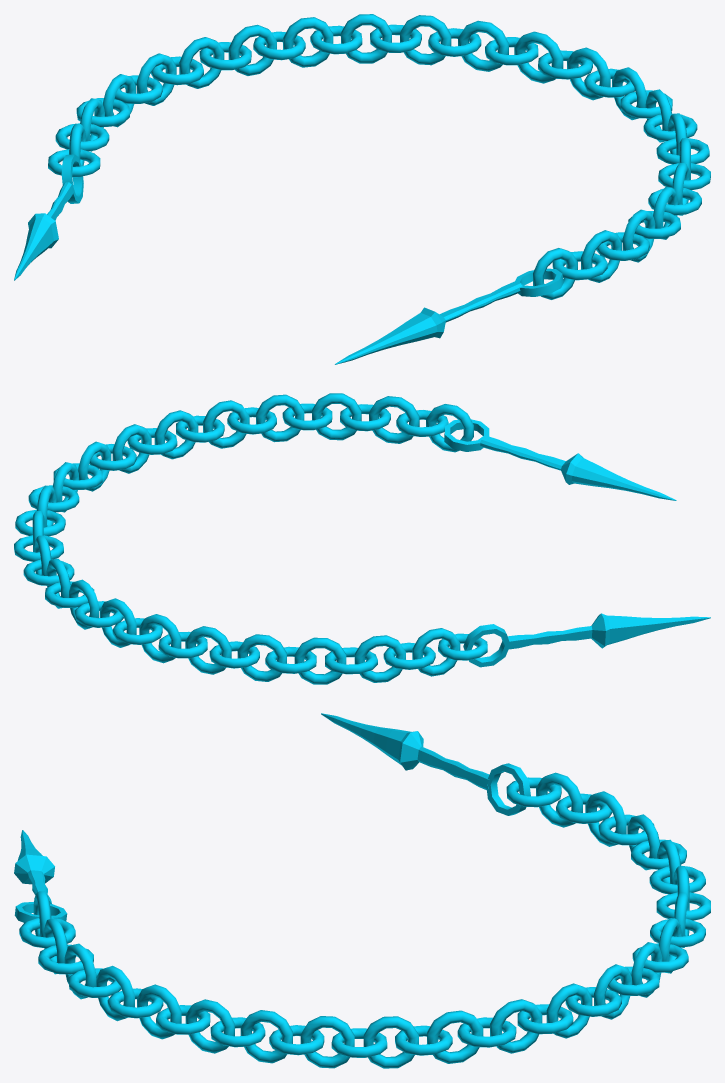
File: Kunai Main.fbx
The picture shows the model from 3 angles, top to bottom: view 1: azimuth 30°, elevation 25°; view 2: azimuth 150°, elevation 25°; view 3: azimuth 270°, elevation 25°; orthographic projection. The views are drawn at different scales.
Parts seen in each view (by area): view 1: Blade_low001, Object039, Object038, Object040, Object037, Object042, Object041, Object036, Object031, Object022, Blade_low, Object023 (+13 smaller); view 2: Blade_low, Blade_low001, Object029, Object028, Object023, Object030, Object024, Object027, Object025, Object031, Object022, Object026 (+13 smaller); view 3: Blade_low, Object036, Object035, Object034, Object037, Object033, Object032, Object027, Object038, Object026, Object028, Object025 (+13 smaller).
Part boxes in pixels (box(x1,y1,x2,y2)): Blade_low001: box(335, 281, 522, 364); Object039: box(370, 15, 451, 65); Object038: box(428, 20, 508, 71); Object040: box(310, 14, 391, 63); Object037: box(485, 31, 563, 83); Object042: box(253, 17, 333, 67); Object041: box(199, 24, 276, 75); Object036: box(538, 47, 610, 100); Object031: box(150, 37, 224, 88); Object022: box(533, 248, 607, 299); Blade_low: box(14, 182, 73, 280); Object023: box(581, 230, 649, 282); Blade_low: box(507, 613, 710, 649); Blade_low001: box(480, 435, 676, 500); Object029: box(294, 637, 377, 684); Object028: box(354, 635, 435, 682); Object023: box(340, 396, 419, 443); Object030: box(237, 634, 316, 681); Object024: box(282, 393, 361, 440); Object027: box(412, 628, 487, 676); Object025: box(227, 394, 304, 442); Object031: box(185, 626, 259, 674); Object022: box(396, 404, 473, 452); Object026: box(176, 400, 249, 448); Blade_low: box(321, 713, 489, 789); Object036: box(427, 1010, 516, 1063); Object035: box(363, 1016, 452, 1068); Object034: box(300, 1016, 387, 1068); Object037: box(490, 999, 573, 1053); Object033: box(240, 1010, 324, 1063); Object032: box(185, 999, 265, 1053); Object027: box(506, 772, 582, 827); Object038: box(546, 983, 621, 1038); Object026: box(137, 984, 210, 1039); Object028: box(556, 791, 626, 846); Object025: box(96, 965, 163, 1021).
Bounding box in the file's own units: 2039 × 153 × 1742.
